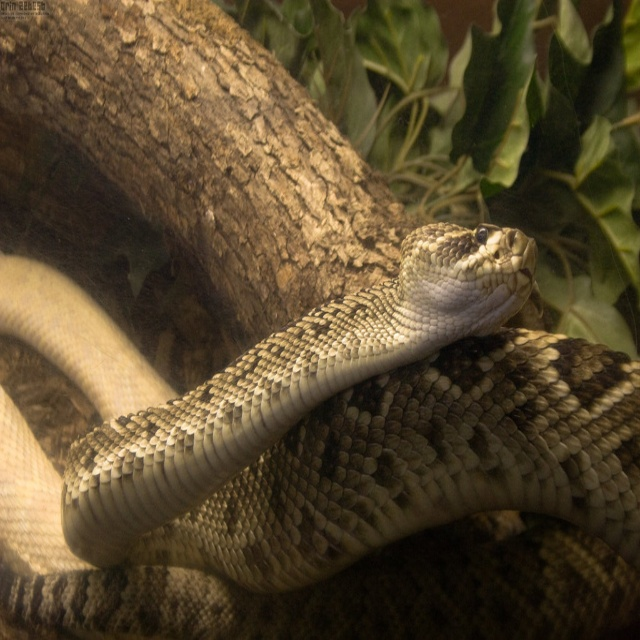Snake: (0, 219, 640, 640)
